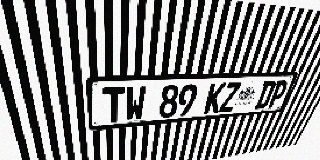8: (158, 84, 181, 118)
9: (176, 84, 199, 117)
D: (254, 81, 277, 109)
K: (203, 83, 226, 114)
P: (266, 80, 290, 108)
T: (103, 87, 125, 123)
W: (125, 86, 146, 121)
Z: (218, 82, 242, 113)
